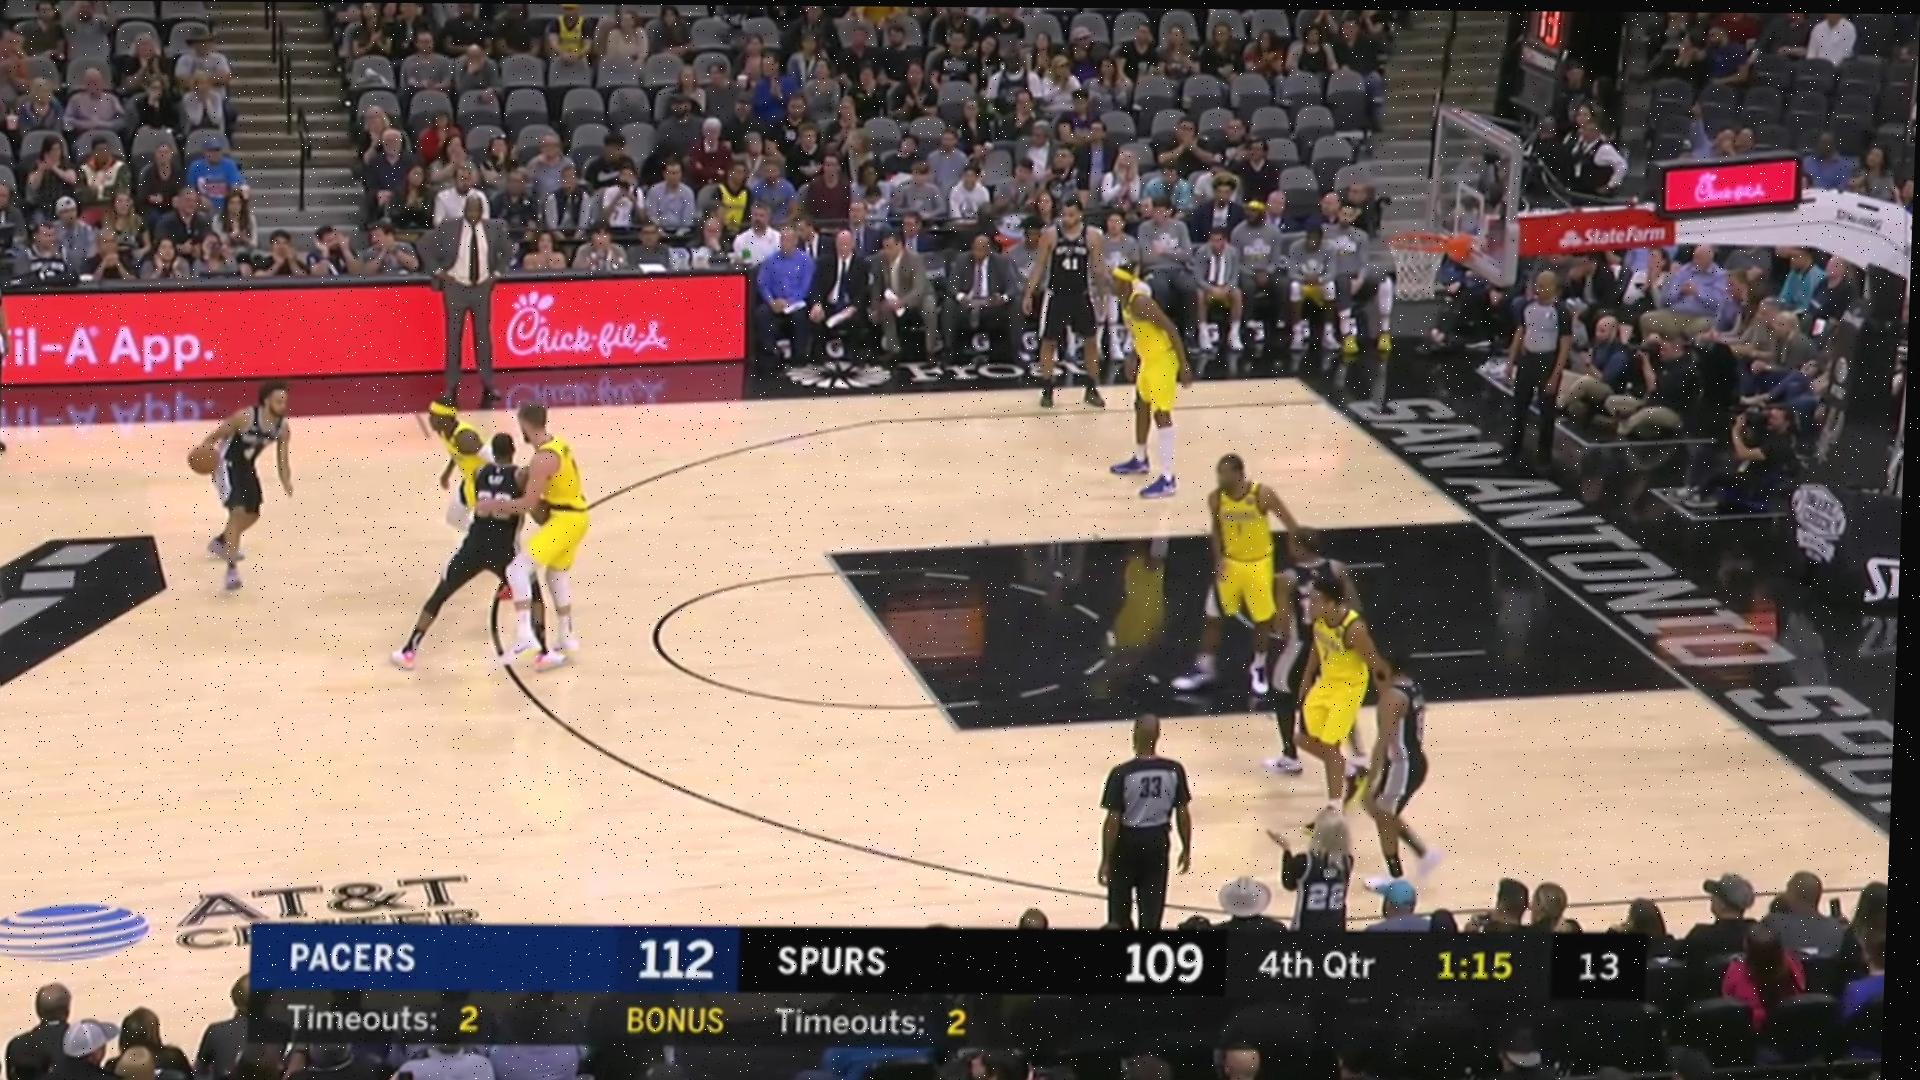no_foul: (1271, 526, 1435, 804)
